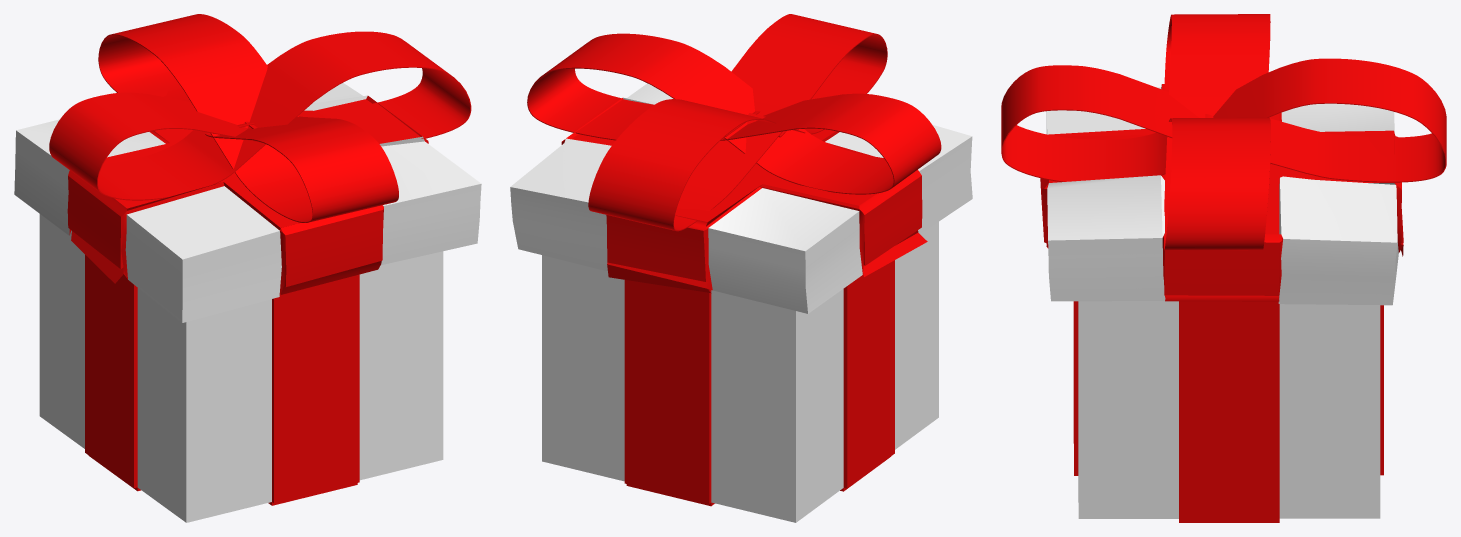
File: Gift.FBX
The picture shows the model from 3 angles, left to right: view 1: azimuth 30°, elevation 25°; view 2: azimuth 150°, elevation 25°; view 3: azimuth 270°, elevation 25°; orthographic projection. The views are drawn at different scales.
Parts seen in each view (by area): view 1: Cube; view 2: Cube; view 3: Cube.
Boxes of the visible parts, left/top/right/bottom form: Cube: left=14, top=14, right=481, bottom=522; Cube: left=510, top=14, right=972, bottom=522; Cube: left=1001, top=14, right=1446, bottom=522.
Bounding box in the file's own units: 457 × 428 × 457.
